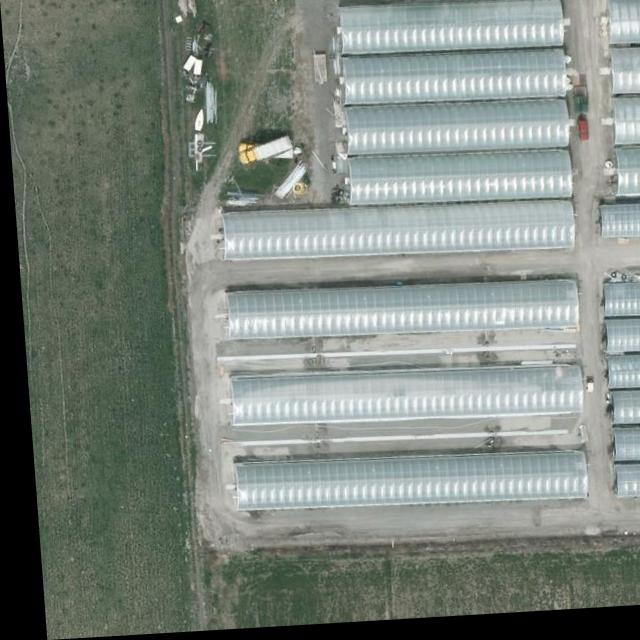vehicle: (234, 138, 293, 170), (574, 128, 586, 148)
